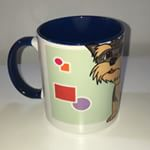cups: (5, 14, 132, 135)
